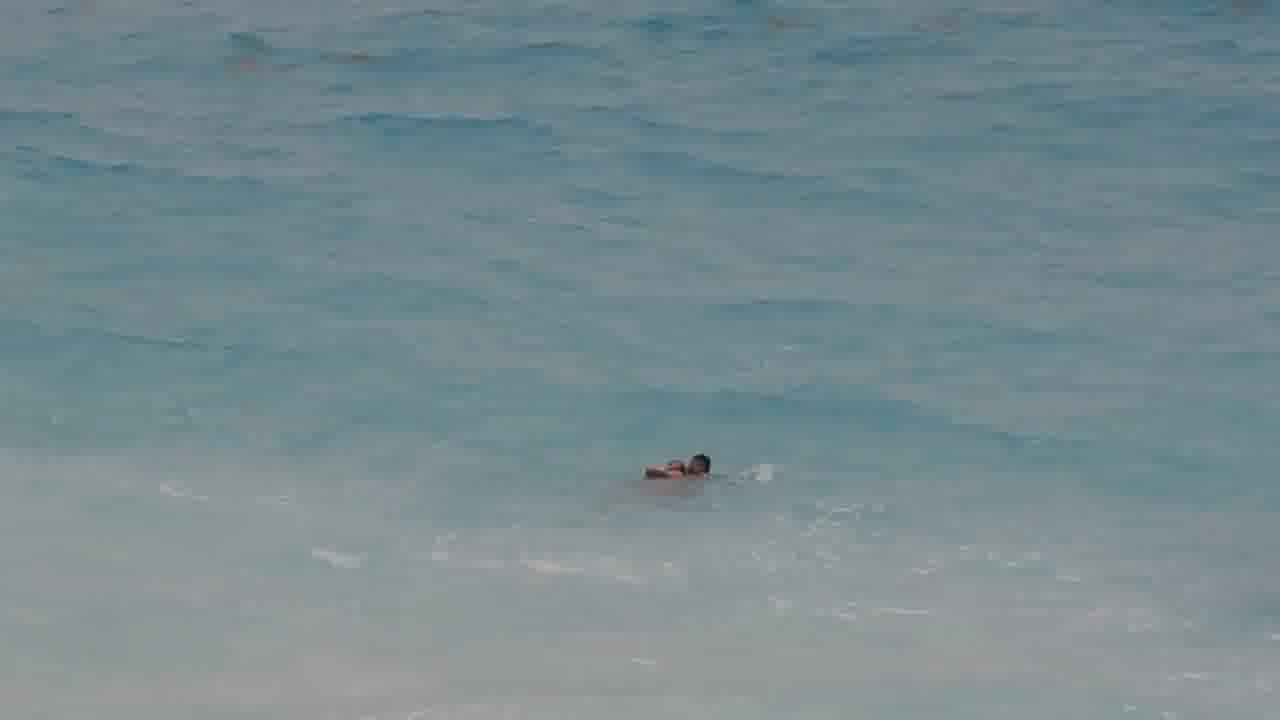swimmer: (632, 449, 688, 490), (682, 446, 728, 485)
